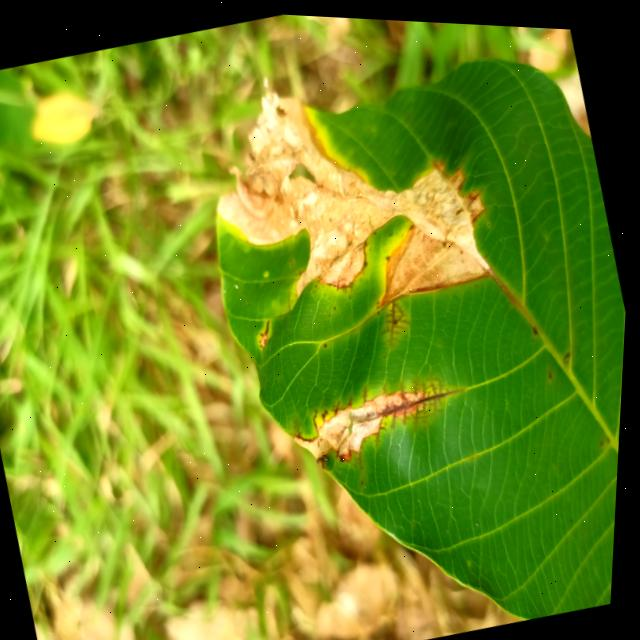Corynespora: (189, 41, 511, 341), (287, 354, 481, 478), (378, 291, 417, 344)
